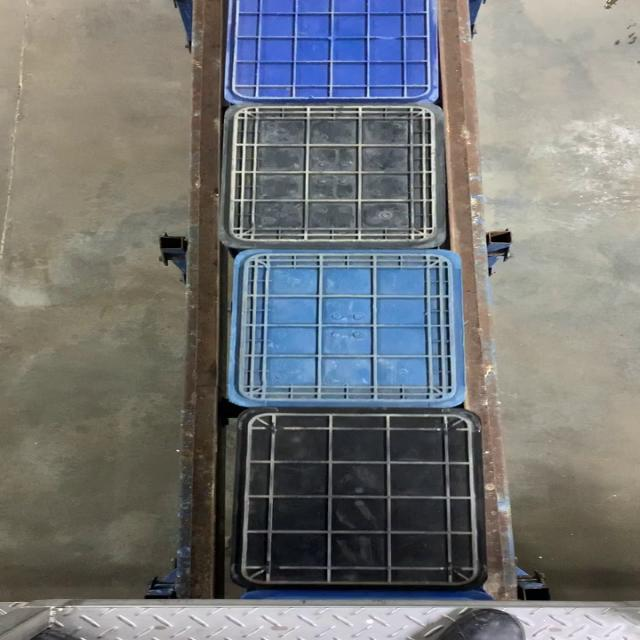Box: (235, 408, 492, 586), (229, 248, 463, 406), (218, 100, 450, 248)
